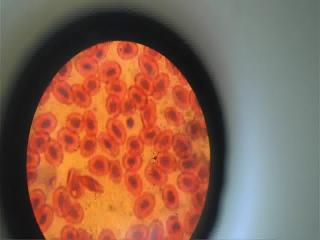cell: (110, 115, 128, 142), (145, 163, 165, 187), (75, 83, 93, 108), (67, 166, 82, 196), (140, 52, 160, 74), (156, 151, 178, 171), (58, 131, 80, 150), (100, 129, 118, 152), (47, 139, 63, 164), (28, 188, 48, 208), (56, 80, 74, 102), (36, 113, 58, 131), (123, 151, 143, 170), (89, 156, 110, 174), (167, 216, 183, 239), (153, 77, 170, 98), (52, 188, 66, 213), (101, 64, 124, 79), (36, 210, 54, 229), (138, 196, 156, 215), (164, 108, 182, 127), (179, 174, 199, 191), (32, 132, 48, 153), (84, 111, 100, 132), (129, 85, 145, 106), (175, 84, 190, 106), (144, 103, 158, 126), (78, 57, 98, 73), (82, 134, 98, 154), (164, 188, 180, 208), (138, 128, 160, 142), (136, 73, 152, 92), (118, 41, 138, 56), (180, 158, 203, 171), (85, 76, 102, 93), (157, 134, 174, 151), (106, 81, 128, 94), (109, 163, 123, 183), (67, 207, 87, 221), (66, 112, 82, 128), (192, 190, 208, 206), (128, 174, 142, 192), (122, 98, 136, 116), (128, 226, 146, 240), (127, 137, 142, 152), (105, 98, 119, 114)
